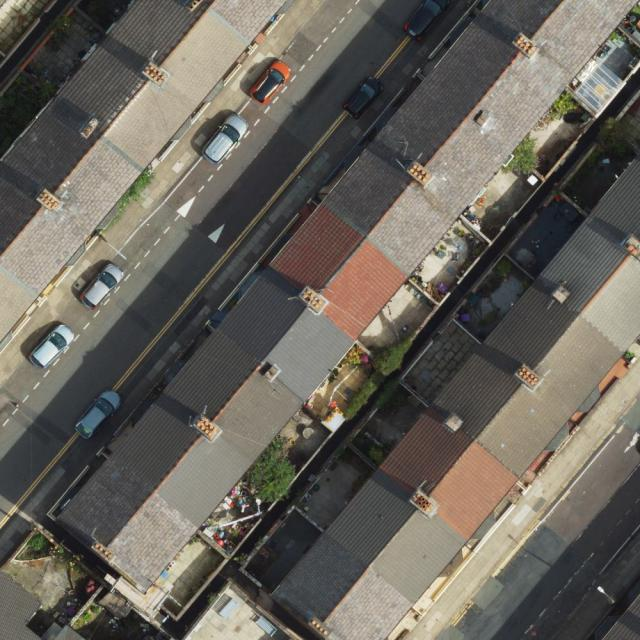roof: (56, 1, 640, 596), (275, 152, 640, 640), (0, 0, 289, 347), (602, 593, 640, 640)
